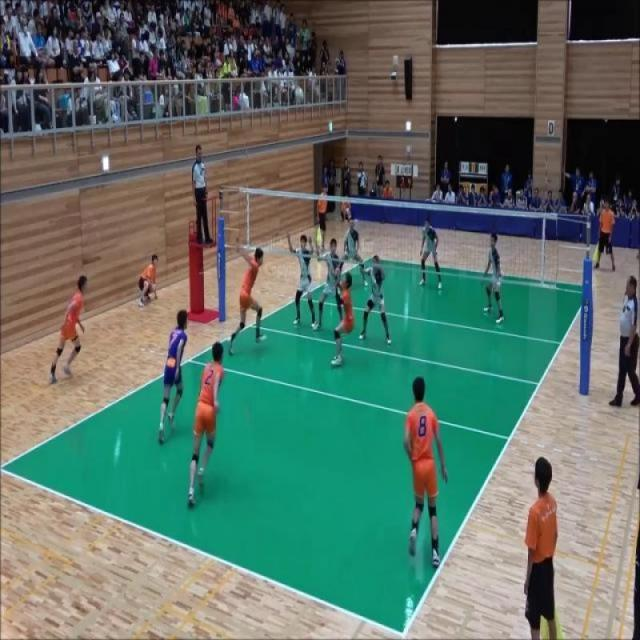volleyball: (294, 85, 305, 104), (346, 208, 350, 215)
